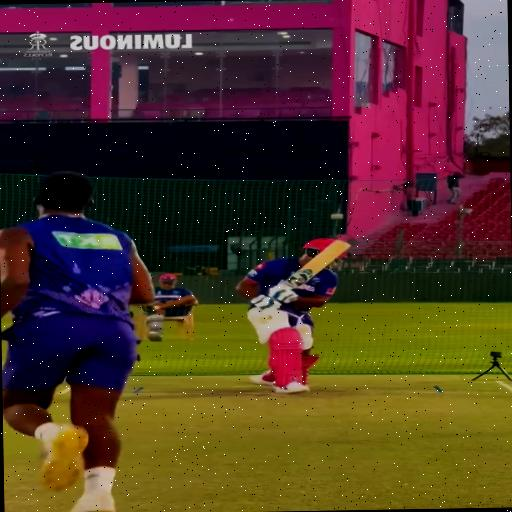Cricket bat: (286, 241, 350, 289)
